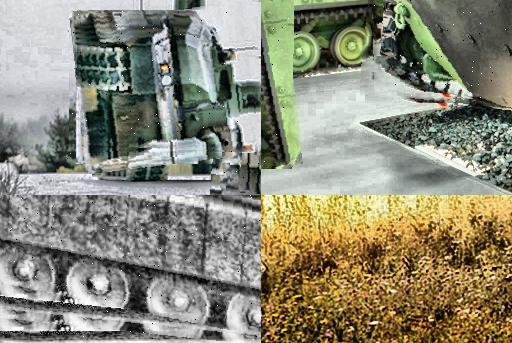tanks: (1, 196, 262, 339), (70, 12, 262, 155), (375, 1, 512, 109), (221, 4, 262, 196), (262, 1, 301, 167)
